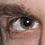eye: (21, 19, 32, 28)
